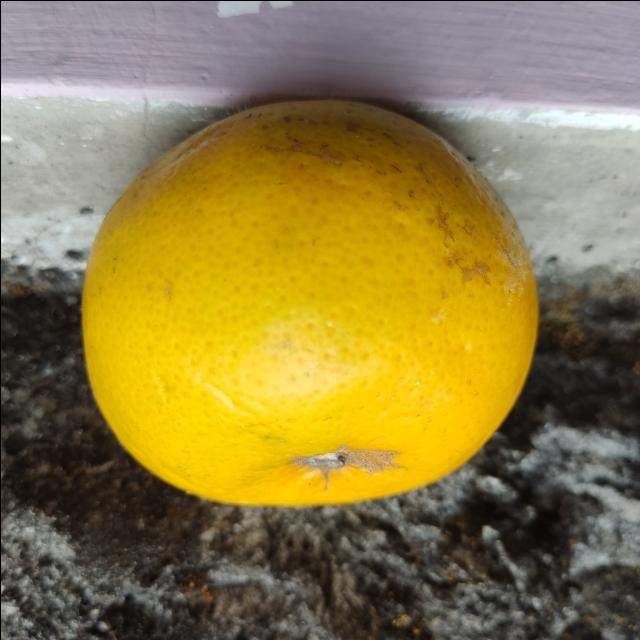agrume: (77, 98, 541, 512)
